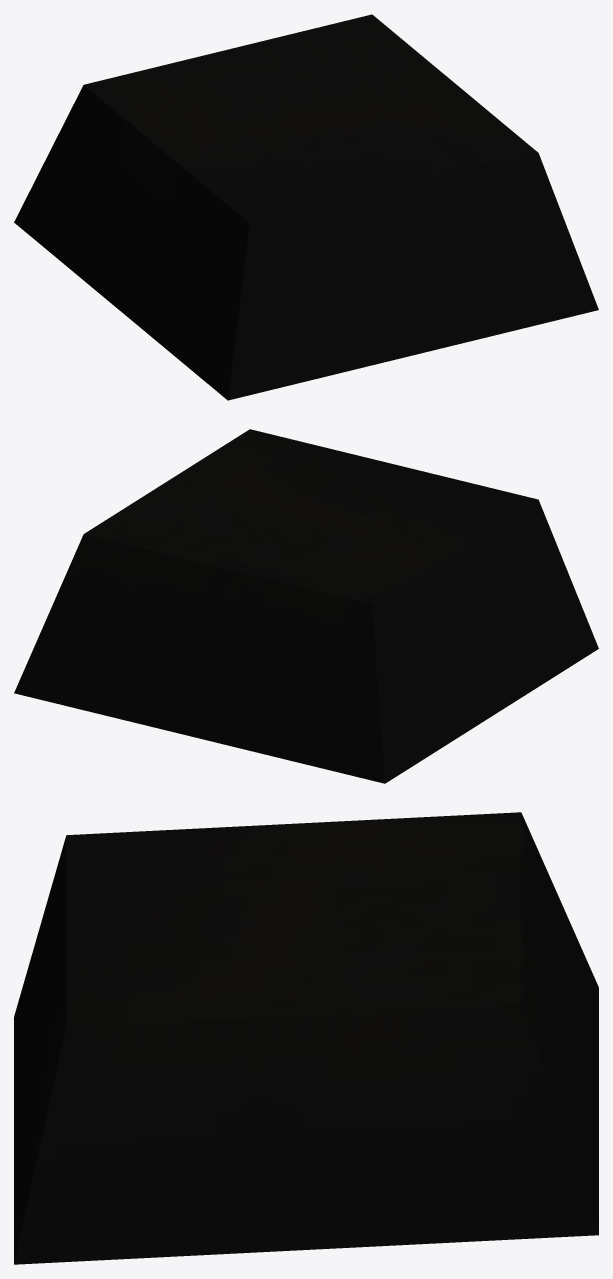
The model's file is link_16__key-22.glb.
3 views of the same model, one above another, from view 1: azimuth 30°, elevation 25°; view 2: azimuth 150°, elevation 25°; view 3: azimuth 270°, elevation 25° (orthographic). The views are drawn at different scales.
Parts seen in each view (by area): view 1: world; view 2: world; view 3: world.
Part boxes in pixels (<box>): world: <box>14,14,598,400</box>; world: <box>14,429,598,783</box>; world: <box>14,812,598,1264</box>.
Bounding box in the file's own units: 0.0719 × 0.0315 × 0.0718.
Materials: 1 (1 with a texture image).
